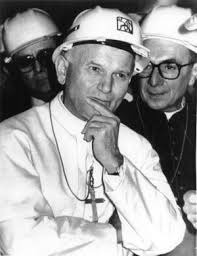helmet: (52, 7, 151, 63)
person with partial safety: (1, 7, 177, 254)
